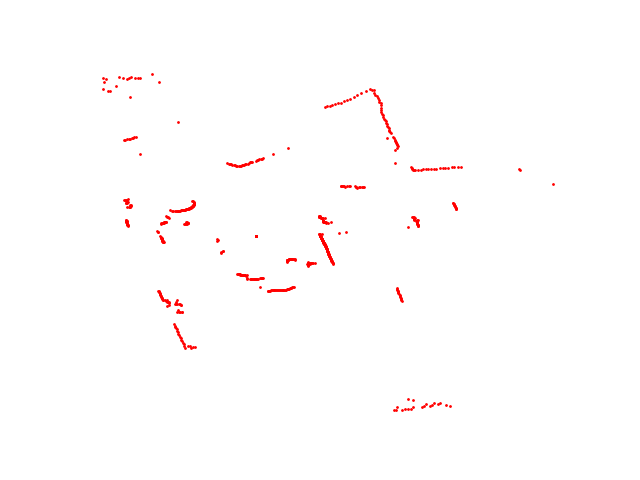person: (284, 256, 320, 270), (337, 181, 370, 193), (316, 213, 335, 227)
